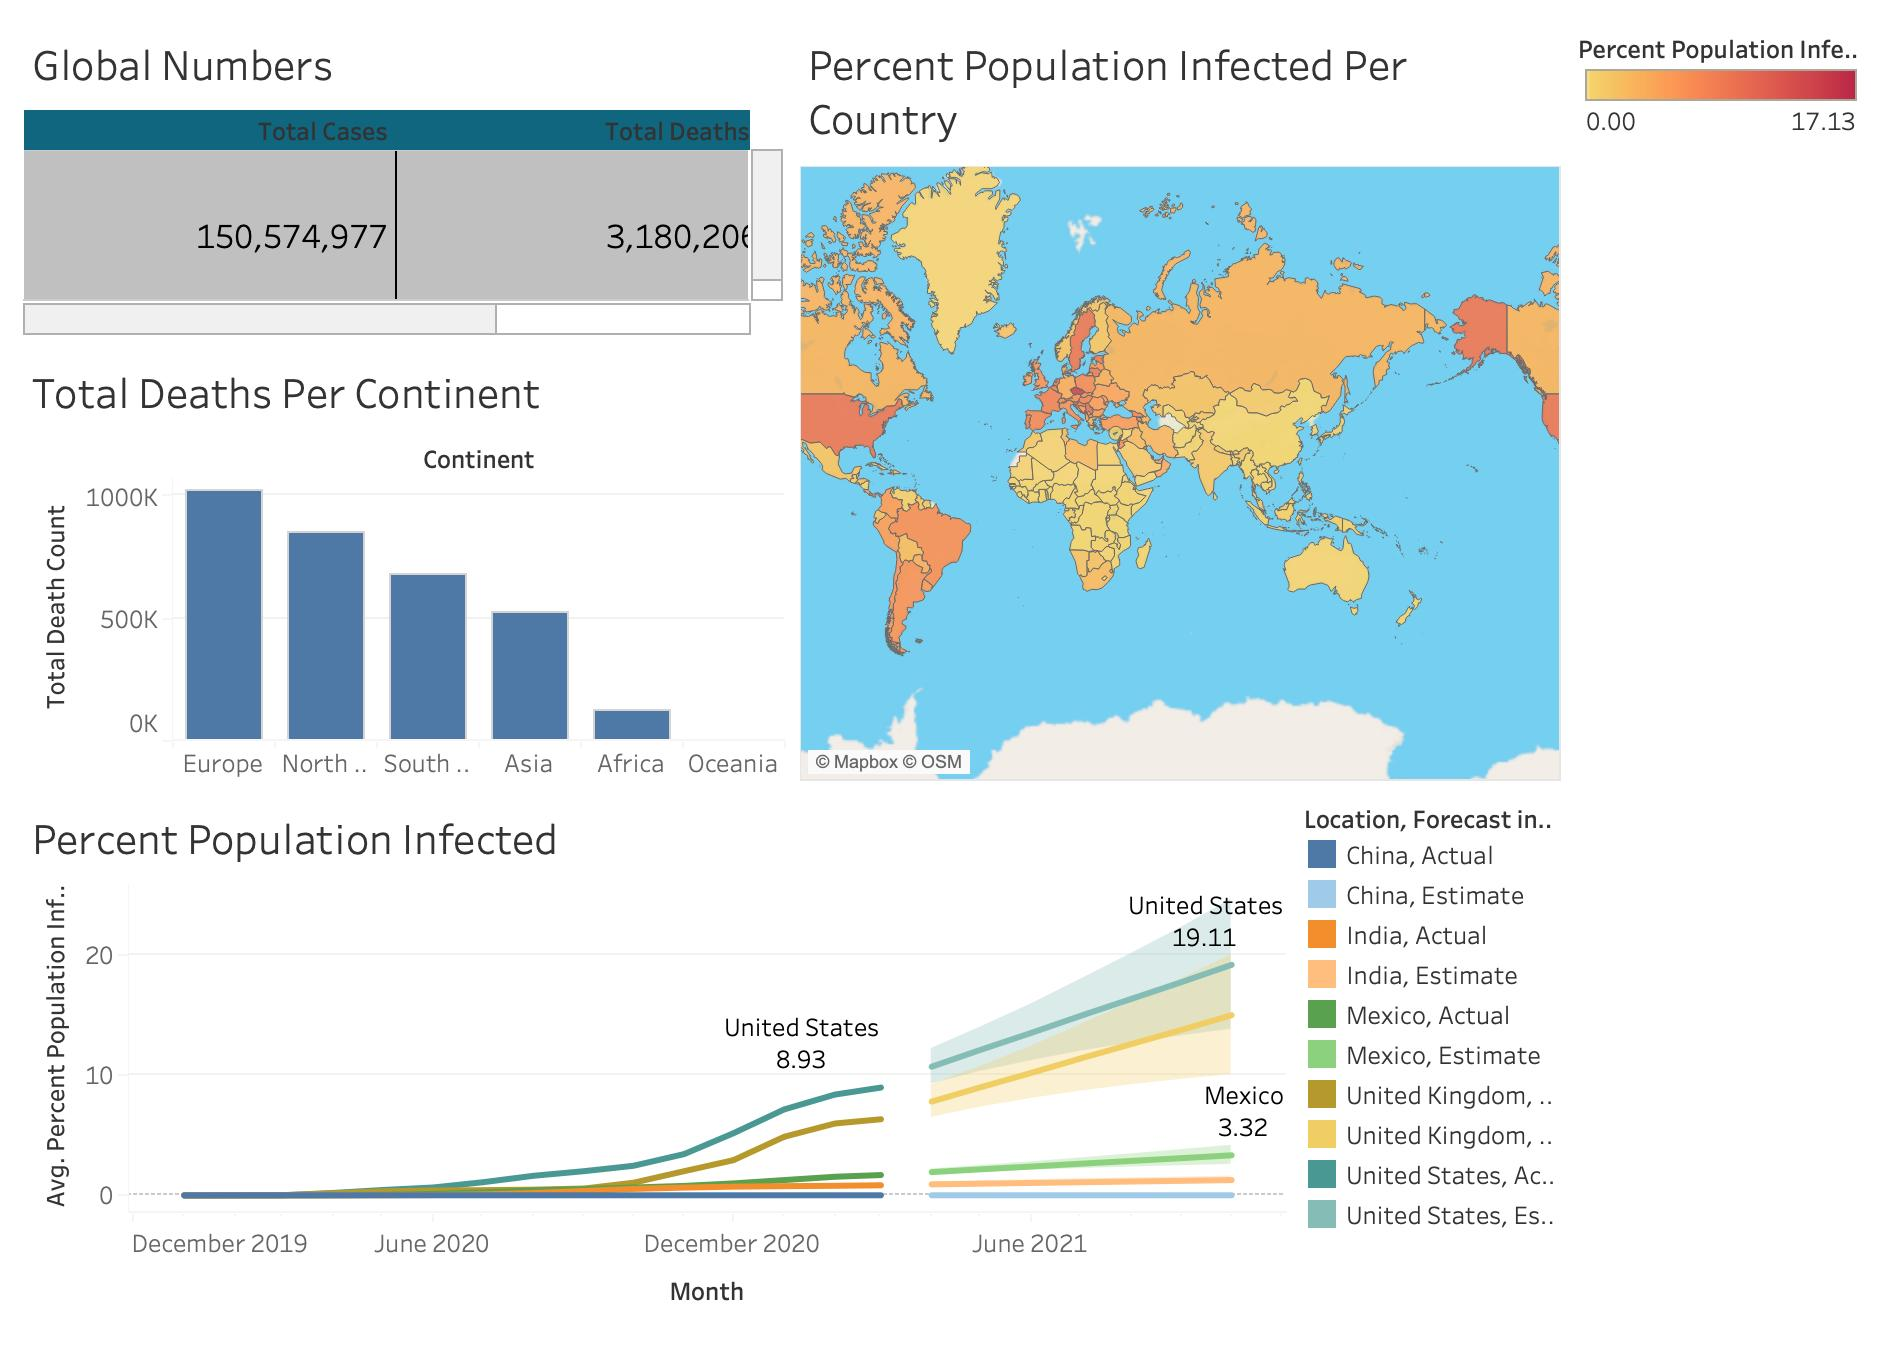

This screenshot's page, from the dashboard's own definition file:
{"tool":"tableau","page":{"name":"Dashboard 1","canvas":[1000,1000],"units":"permille","ordinal":0},"visuals":[{"type":"worksheet","title":"Sheet 1","mark":"Automatic","box":[8.5,11.9,411.1,244.1]},{"type":"worksheet","title":"Sheet 3","mark":"Automatic","box":[419.6,11.9,411.1,575.3]},{"type":"legend","title":"Sheet 3","param":"[federated.1u6pgzk0rhh873144wigi0cf6ax3].[sum:PercentPopulationInfected:qk]","box":[830.7,11.9,160.8,96.6]},{"type":"worksheet","title":"Sheet 2","mark":"Automatic","rows":["TotalDeathCount"],"cols":["location"],"box":[8.5,255.9,411.1,331.3]},{"type":"worksheet","title":"Sheet 4","mark":"Automatic","rows":["PercentPopulationInfected"],"cols":["date"],"box":[8.5,587.2,675.7,400.9]},{"type":"legend","title":"Sheet 4","param":"[federated.0fv2uox0hbhi61182v4641vh426j].[none:Location:nk]\n[federated.0fv2uox0h","box":[684.2,587.2,146.5,400.9]}]}

Visuals, with their boxes on the dashboard's canvas, which has no fixed pixel size, in thousandths of its width and height (x1, y1, x2, y2). These are canvas units, not pixel positions in the 1890x1346 screenshot, which may show the page scaled, cropped or inside an application window:
"Sheet 1" worksheet: left=8, top=12, right=420, bottom=256
"Sheet 3" worksheet: left=420, top=12, right=831, bottom=587
"Sheet 3" legend: left=831, top=12, right=992, bottom=108
"Sheet 2" worksheet: left=8, top=256, right=420, bottom=587
"Sheet 4" worksheet: left=8, top=587, right=684, bottom=988
"Sheet 4" legend: left=684, top=587, right=831, bottom=988
